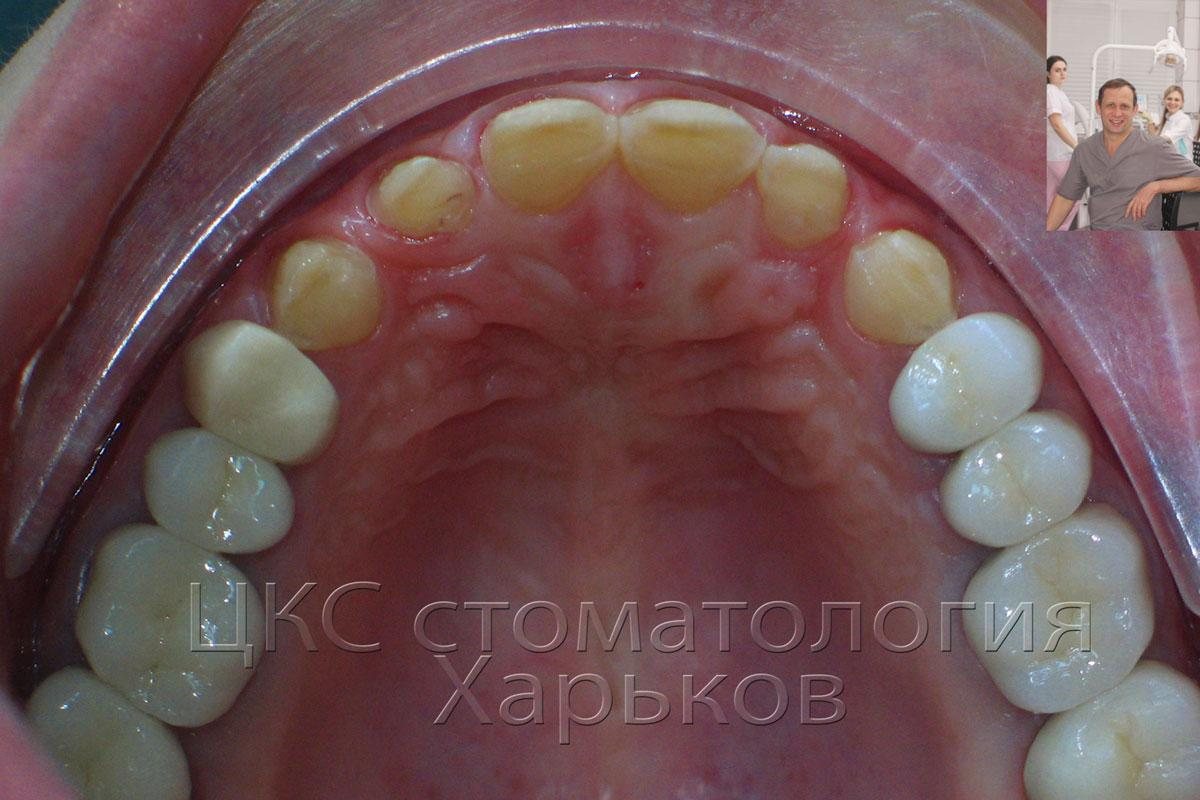UL1BC_healthy: (881, 329, 1030, 444)
UL2BC_healthy: (937, 431, 1071, 543)
UL2M_healthy: (1022, 673, 1200, 795)
ULCI_healthy: (629, 105, 758, 210)
ULC_healthy: (837, 240, 958, 340)
ULLI_healthy: (758, 157, 856, 236)
UR1BC_healthy: (182, 326, 346, 460)
UR2BC_healthy: (140, 439, 304, 558)
UR2M_healthy: (38, 668, 201, 793)
URCI_healthy: (481, 107, 617, 214)
URC_healthy: (276, 256, 390, 355)
URLI_healthy: (365, 163, 481, 250)
